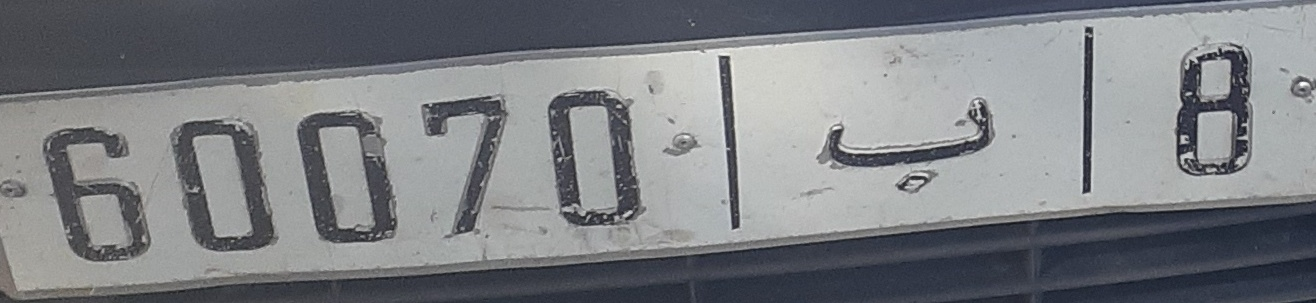0: (169, 113, 282, 255), (539, 84, 649, 228), (292, 107, 403, 247)
6: (40, 121, 155, 264)
7: (419, 95, 512, 238)
8: (1172, 41, 1259, 183)
b: (815, 96, 1001, 200)
